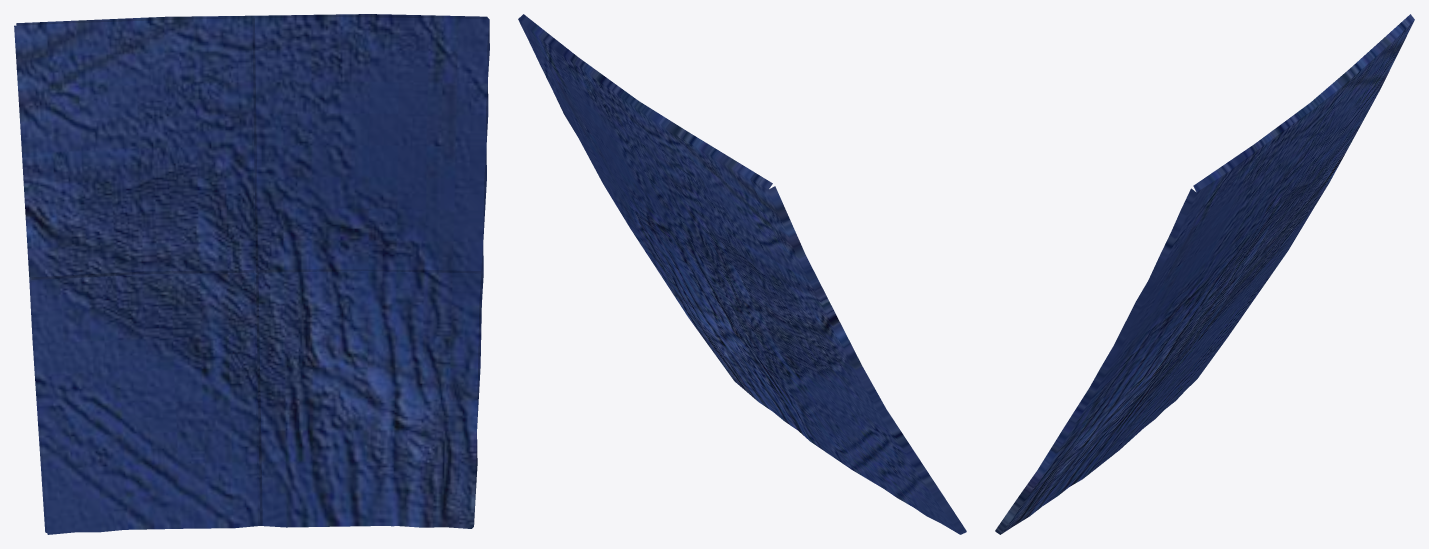
The picture shows the model from 3 angles, left to right: view 1: azimuth 30°, elevation 25°; view 2: azimuth 150°, elevation 25°; view 3: azimuth 270°, elevation 25°; orthographic projection. The views are drawn at different scales.
Bounding box in the file's own units: 1263835 × 1116338 × 1052944.
Materials: 1 (1 with a texture image).
